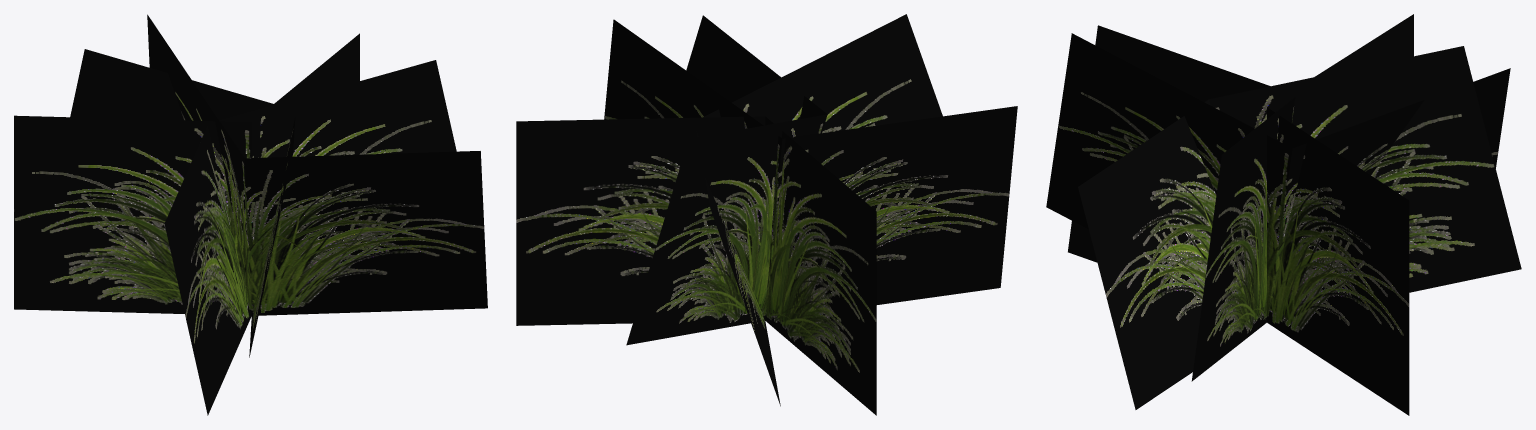
File: Grass.fbx
The picture shows the model from 3 angles, left to right: view 1: azimuth 30°, elevation 25°; view 2: azimuth 150°, elevation 25°; view 3: azimuth 270°, elevation 25°; orthographic projection. The views are drawn at different scales.
Parts seen in each view (by area): view 1: pPlane8; view 2: pPlane8; view 3: pPlane8.
Boxes of the visible parts, bbox=[...] form: pPlane8: bbox=[14, 14, 487, 415]; pPlane8: bbox=[516, 14, 1017, 415]; pPlane8: bbox=[1046, 14, 1521, 415].
Bounding box in the file's own units: 0.0197 × 0.0125 × 0.02.
